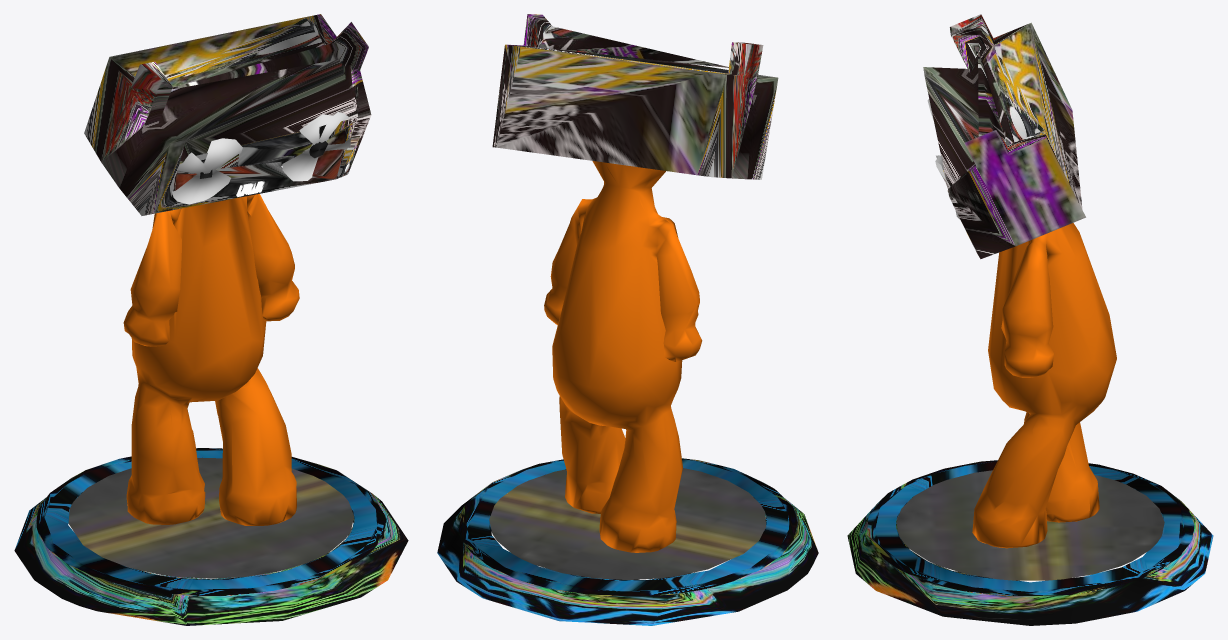
The picture shows the model from 3 angles, left to right: view 1: azimuth 30°, elevation 25°; view 2: azimuth 150°, elevation 25°; view 3: azimuth 270°, elevation 25°; orthographic projection. The views are drawn at different scales.
Bounding box in the file's own units: 1.45 × 2.12 × 1.43.
Materials: 7 (3 with a texture image).
